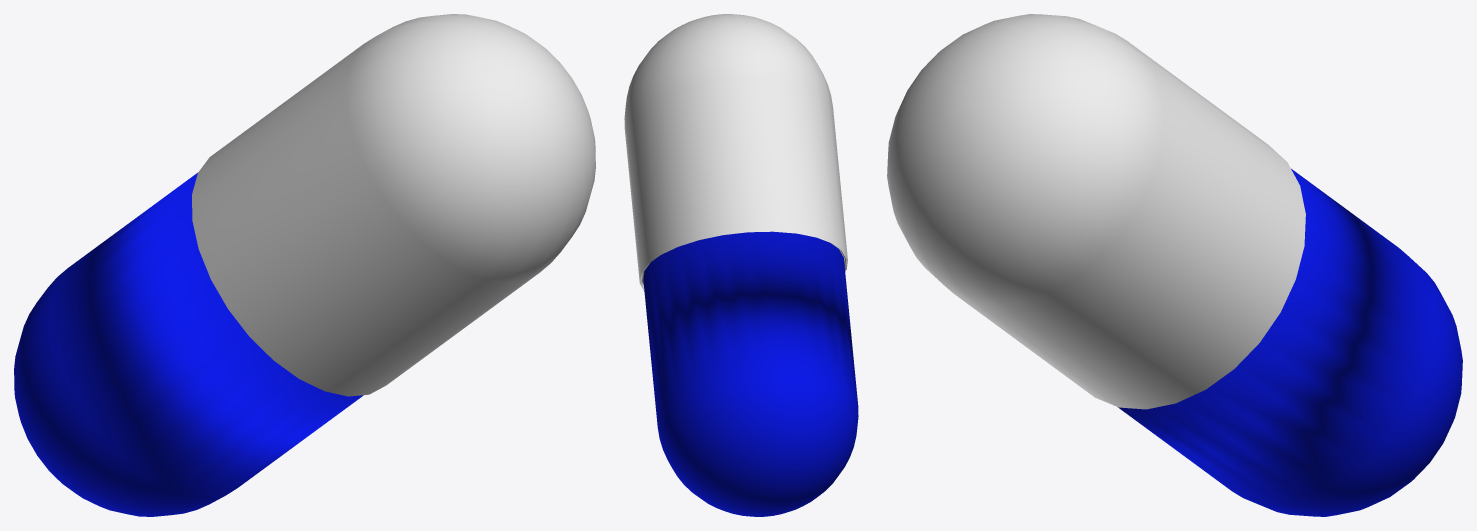
Rendered from medoc.fbx.
3 renders of one model, left to right at view 1: azimuth 30°, elevation 25°; view 2: azimuth 150°, elevation 25°; view 3: azimuth 270°, elevation 25°, orthographic. The views are drawn at different scales.
Visible parts, largest first — view 1: pill.001; view 2: pill.001; view 3: pill.001.
Boxes of the visible parts, left/top/right/bottom form: pill.001: left=14, top=14, right=595, bottom=516; pill.001: left=624, top=14, right=858, bottom=516; pill.001: left=887, top=14, right=1462, bottom=516.
Size of the model in its own units: 3.08 by 3.76 by 3.49.
